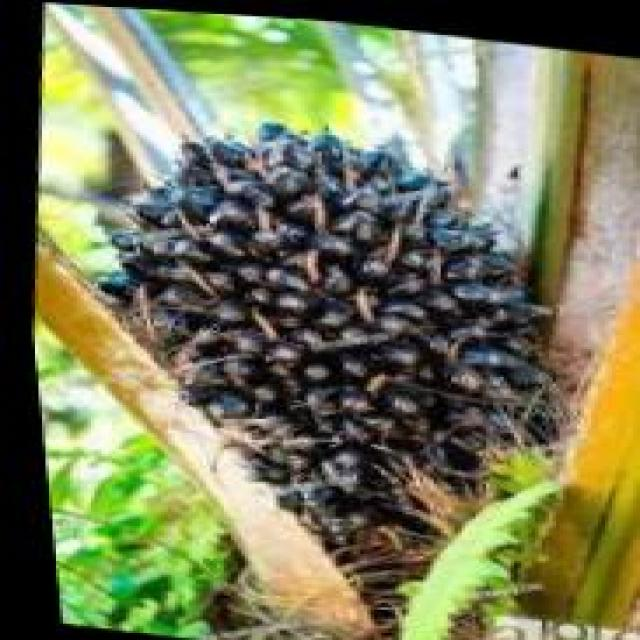Unripe: (24, 87, 608, 632)
